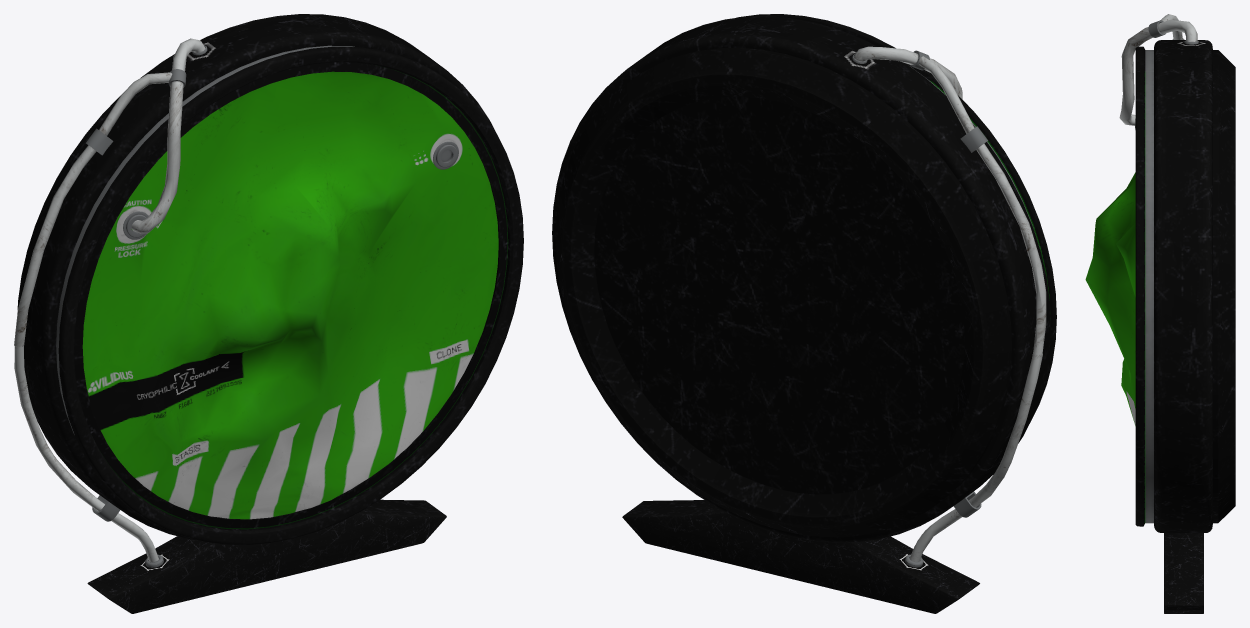
Rendered from Stasis clone.fbx.
3 views of the same model, side by side, from view 1: azimuth 30°, elevation 25°; view 2: azimuth 150°, elevation 25°; view 3: azimuth 270°, elevation 25° (orthographic). The views are drawn at different scales.
Visible parts, largest first — view 1: Stasis_Tank_Stasis_Tank_0.001, Stasis_Tank_Stasis_Tank_0; view 2: Stasis_Tank_Stasis_Tank_0; view 3: Stasis_Tank_Stasis_Tank_0, Stasis_Tank_Stasis_Tank_0.001.
Part boxes in pixels (x1,y1,x2,y2): Stasis_Tank_Stasis_Tank_0.001: (82,71,498,519); Stasis_Tank_Stasis_Tank_0: (14,14,523,613); Stasis_Tank_Stasis_Tank_0: (552,14,1056,613); Stasis_Tank_Stasis_Tank_0: (1119,14,1235,613); Stasis_Tank_Stasis_Tank_0.001: (1085,172,1135,425).
Bounding box in the file's own units: 176 × 190 × 52.47.
